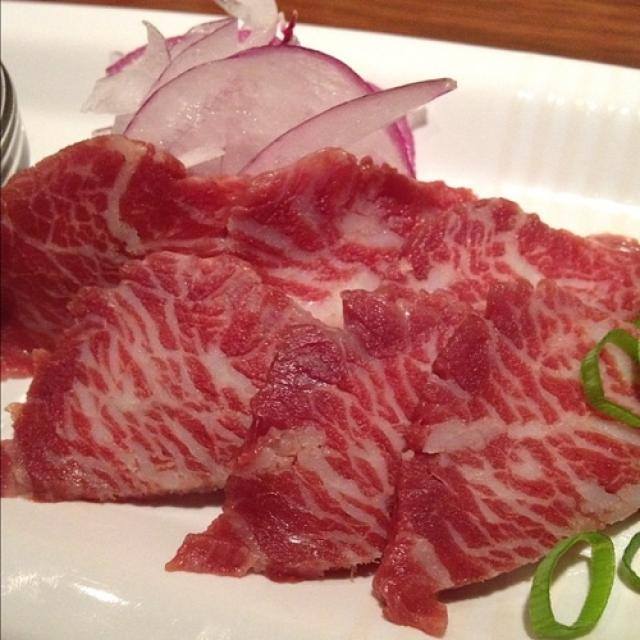刺身生食: (5, 10, 635, 626)
